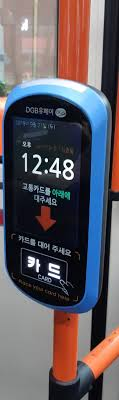terminal: (3, 77, 112, 314)
